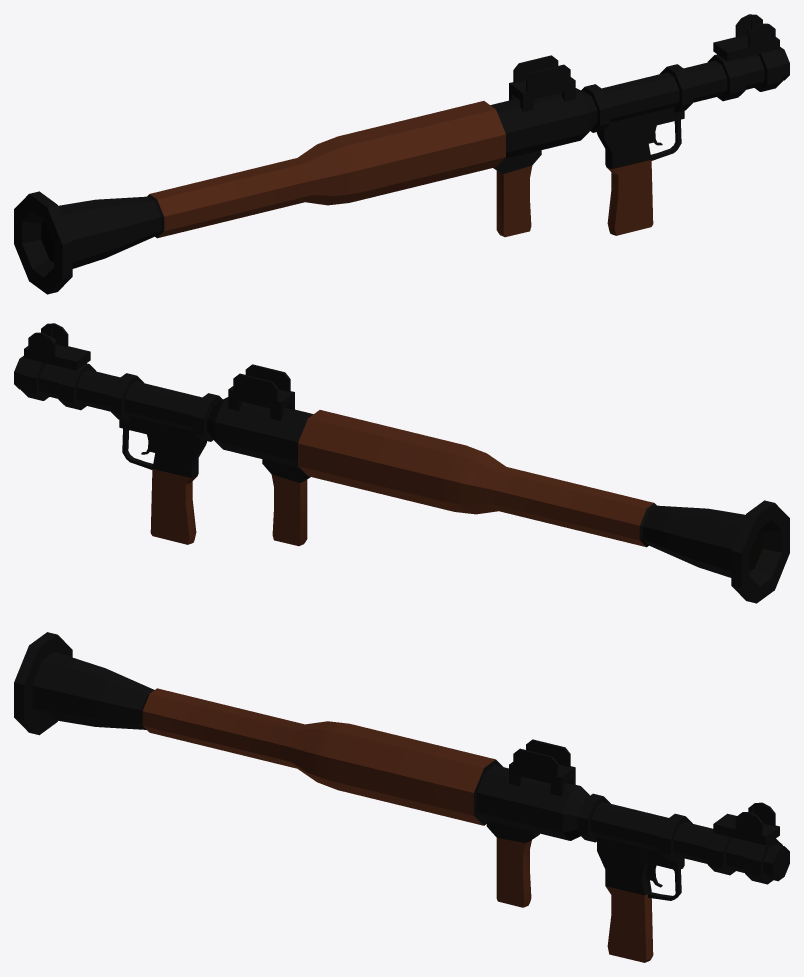
The model's file is RPG.FBX.
3 renders of one model, top to bottom at view 1: azimuth 30°, elevation 25°; view 2: azimuth 150°, elevation 25°; view 3: azimuth 330°, elevation 25°, orthographic.
Visible parts, largest first — view 1: RPG-7_no_rocket; view 2: RPG-7_no_rocket; view 3: RPG-7_no_rocket.
Boxes of the visible parts, left/top/right/bottom form: RPG-7_no_rocket: left=14, top=14, right=789, bottom=294; RPG-7_no_rocket: left=14, top=323, right=789, bottom=603; RPG-7_no_rocket: left=14, top=632, right=789, bottom=962.
Bounding box in the file's own units: 105 × 11.86 × 25.23.
